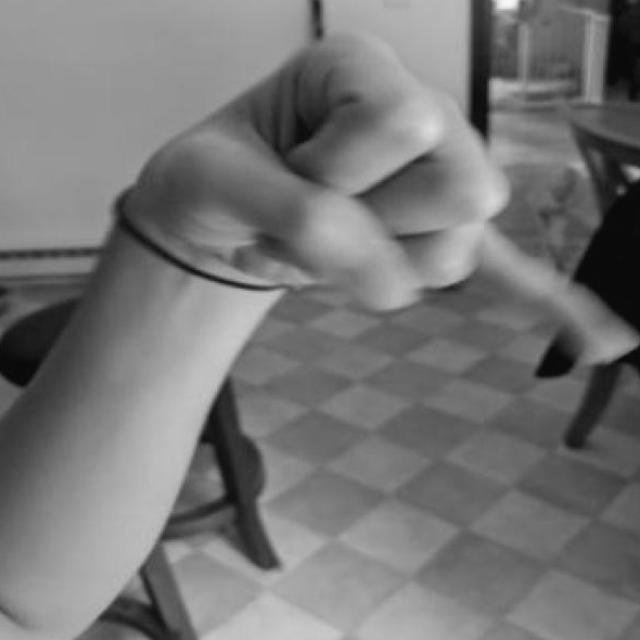J: (90, 24, 640, 386)
